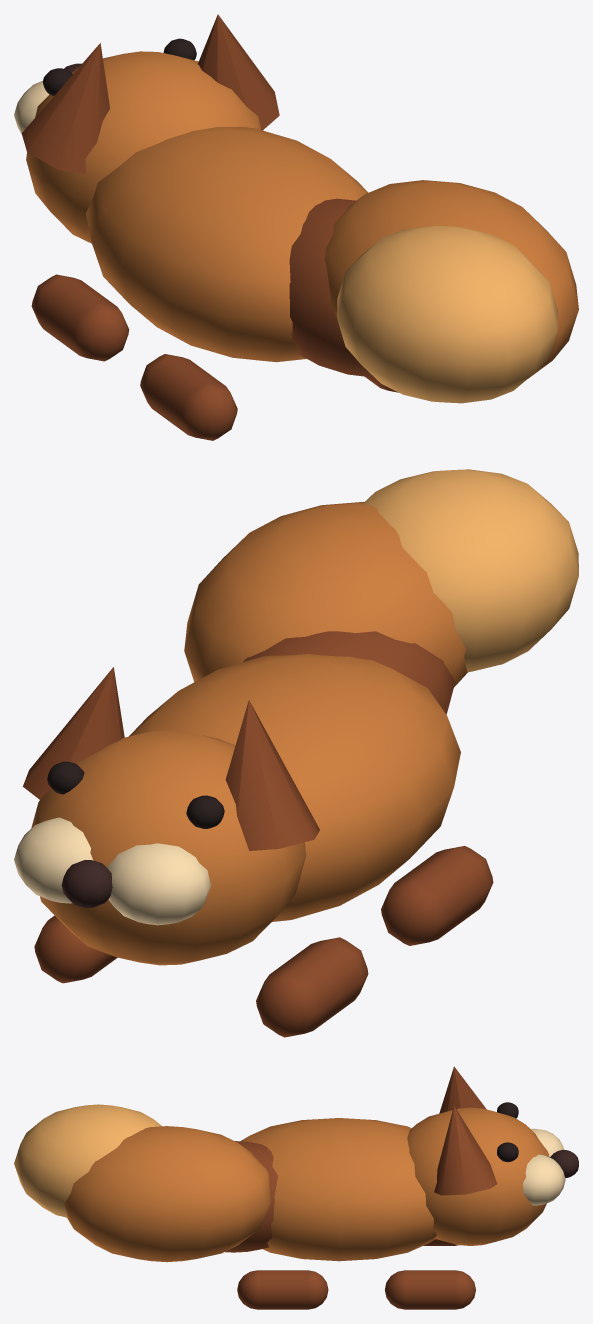
Rendered from squirrel.glb.
The picture shows the model from 3 angles, top to bottom: view 1: azimuth 30°, elevation 25°; view 2: azimuth 150°, elevation 25°; view 3: azimuth 270°, elevation 25°; orthographic projection. The views are drawn at different scales.
Visible parts, largest first — view 1: body-mass, tail-tip, head-mass, tail-middle, tail-base, ear-left, legBL-paw, legFL-paw, ear-right, muzzle-left; view 2: body-mass, head-mass, tail-middle, tail-tip, ear-left, legFL-paw, legBL-paw, muzzle-left, tail-base, ear-right, muzzle-right, legFR-paw (+3 smaller); view 3: tail-middle, body-mass, head-mass, tail-tip, legBR-paw, legFR-paw, ear-right, muzzle-right, tail-base, ear-left, nose, muzzle-left (+1 smaller).
Part boxes in pixels (x1,y1,x2,y2): body-mass: (86,126,368,362); tail-tip: (337,225,557,403); head-mass: (26,51,261,243); tail-middle: (324,180,578,378); tail-base: (289,198,374,377); ear-left: (21,43,109,174); legBL-paw: (140,354,237,440); legFL-paw: (31,274,129,361); ear-right: (198,14,279,130); muzzle-left: (14,81,49,134); body-mass: (129,654,460,921); head-mass: (31,730,306,965); tail-middle: (184,501,467,687); tail-tip: (364,469,578,672); ear-left: (225,700,319,850); legFL-paw: (256,937,368,1037); legBL-paw: (381,846,493,945); muzzle-left: (106,843,210,925); tail-base: (243,631,455,714); ear-right: (23,667,124,799); muzzle-right: (14,817,93,903); legFR-paw: (34,915,117,983); tail-middle: (64,1126,270,1262); body-mass: (240,1118,436,1261); head-mass: (407,1107,549,1245); tail-tip: (14,1104,161,1217); legBR-paw: (237,1270,328,1309); legFR-paw: (385,1270,475,1309); ear-right: (434,1105,497,1195); muzzle-right: (523,1154,565,1205); tail-base: (225,1141,277,1252); ear-left: (439,1066,486,1113); nose: (550,1150,578,1178); muzzle-left: (531,1128,563,1157).
Size of the model in its own units: 1.37 by 1.2 by 3.22.
